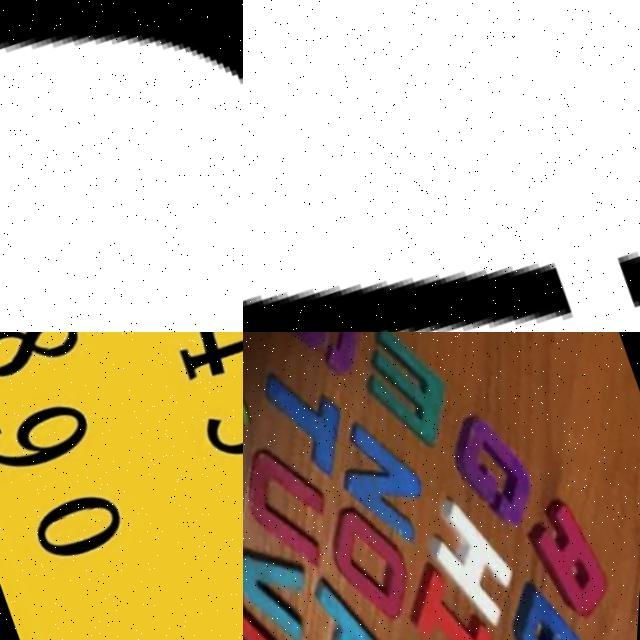0: (18, 464, 150, 583)
4: (154, 332, 243, 398)
5: (188, 352, 243, 484)
8: (0, 332, 107, 411)
9: (0, 364, 117, 502)
A: (527, 481, 624, 608)
B: (503, 558, 612, 640)
C: (486, 617, 585, 640)
G: (446, 395, 549, 530)
H: (415, 474, 532, 623)
I: (398, 541, 518, 640)
J: (243, 41, 640, 332)
M: (351, 332, 472, 462)
N: (321, 393, 444, 548)
O: (321, 490, 432, 628)
P: (301, 560, 407, 640)
R: (0, 0, 243, 332)
S: (268, 332, 378, 380)
T: (261, 346, 365, 477)
U: (243, 428, 350, 572)
V: (243, 519, 337, 640)
W: (243, 567, 313, 640)
